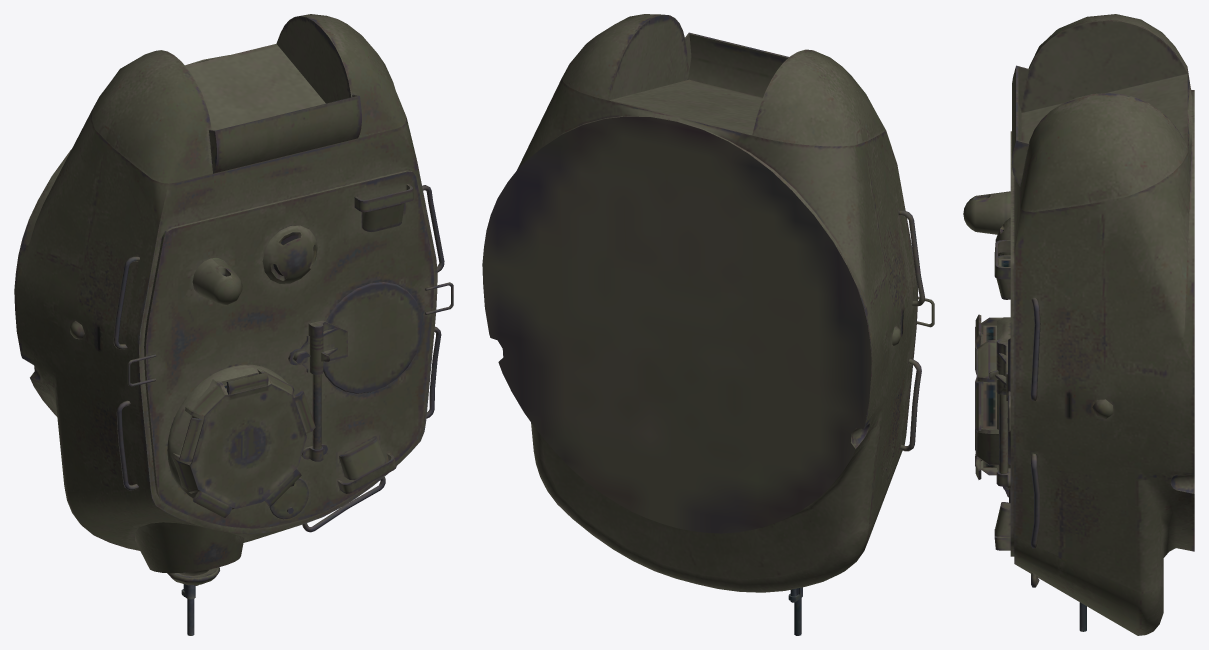
Rendered from Turret_01.glb.
3 views of the same model, side by side, from view 1: azimuth 30°, elevation 25°; view 2: azimuth 150°, elevation 25°; view 3: azimuth 270°, elevation 25° (orthographic). The views are drawn at different scales.
Parts seen in each view (by area): view 1: set_0_group_0; view 2: set_0_group_0; view 3: set_0_group_0.
Part boxes in pixels (x1,y1,x2,y2): set_0_group_0: (14,14,453,635); set_0_group_0: (482,14,934,635); set_0_group_0: (963,14,1194,635).
Size of the model in its own units: 1.96 by 2.83 by 0.9762.
Materials: 1 (1 with a texture image).
